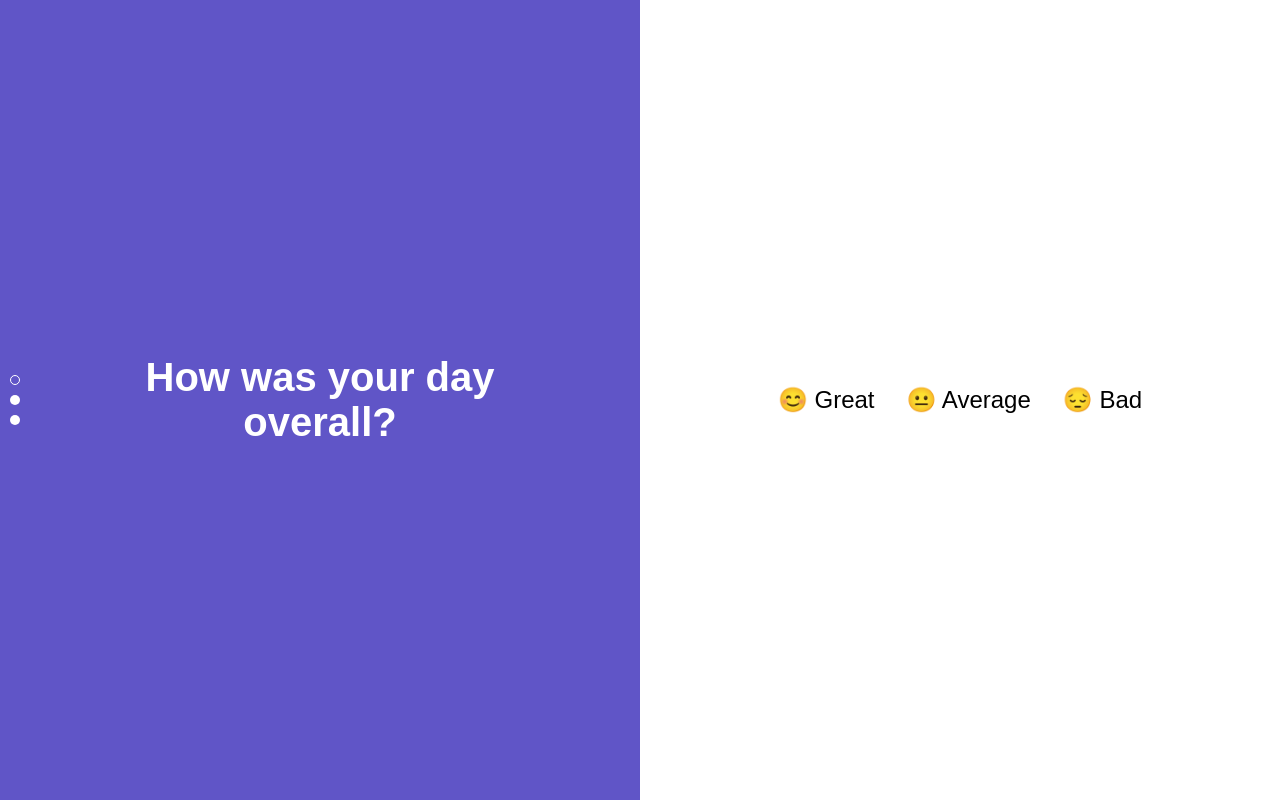
Test: Carousel Component › clicking on a dot scrolls to the correct step
Click the 2nd button with class "navigation_btn_dot" at (15,400), box left=10, top=395, right=20, bottom=405
(page scrolled)
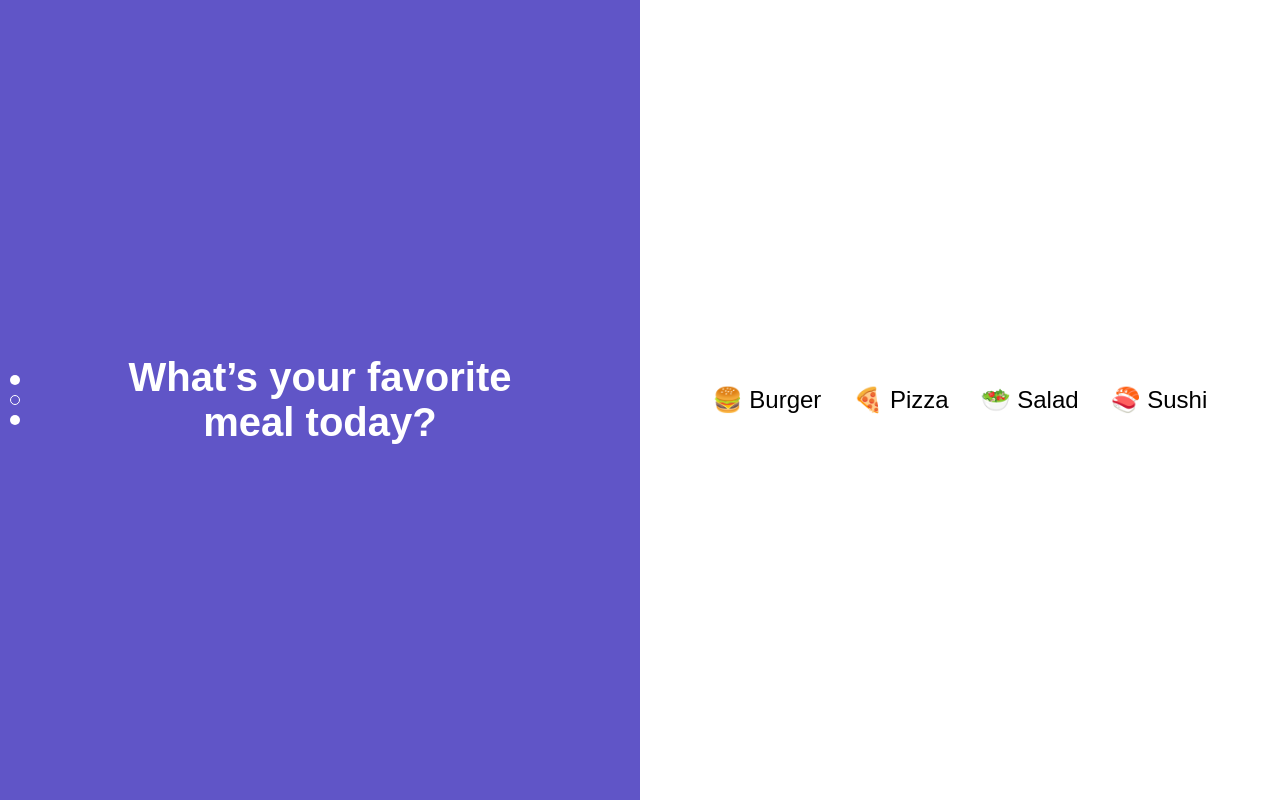
expect the heading "What’s your favorite meal today?" is shown: met, box left=128, top=355, right=512, bottom=445
